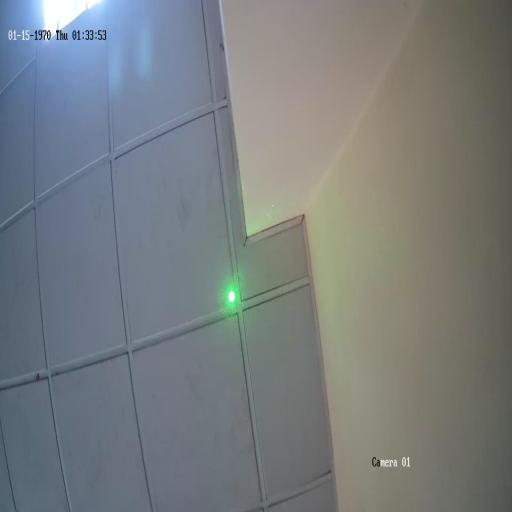laser: (226, 286, 236, 304)
